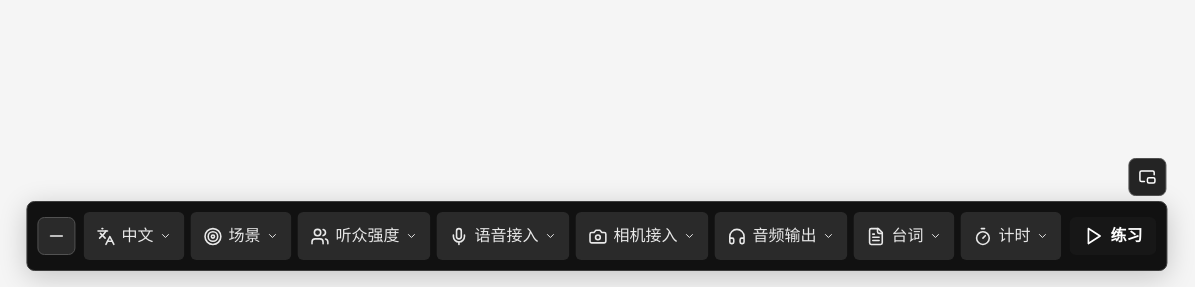
Test: touch practice dock › opens language options only on demand and routes the selection
What coordinates should you click on to do the following:
click the button with aria-label "训练语言"
I would click on:
 (134, 236)
Its box is left=83, top=212, right=184, bottom=260.
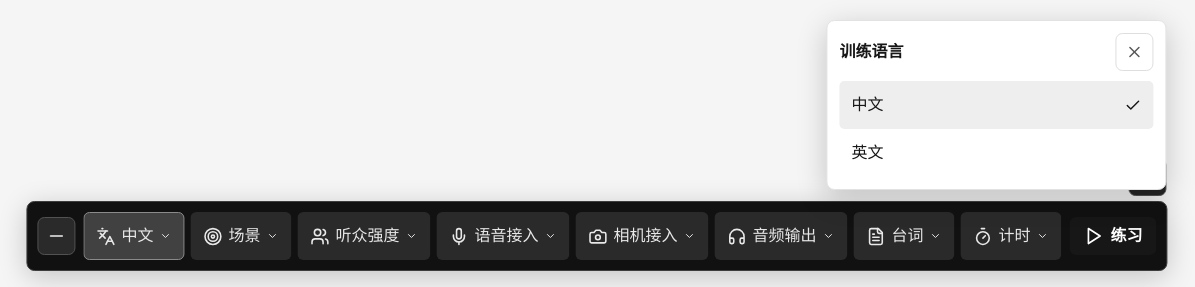
What coordinates should you click on to do the following:
click the menu item "英文"
I would click on:
 (868, 152)
Its box is left=840, top=129, right=1154, bottom=177.
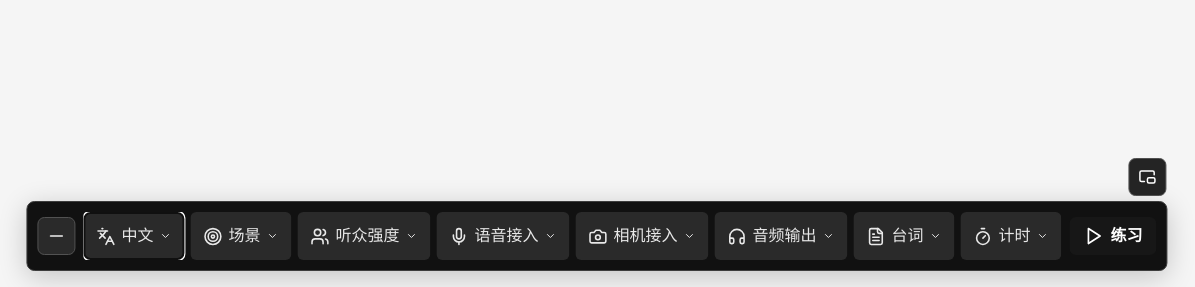
Now the menu is gone
